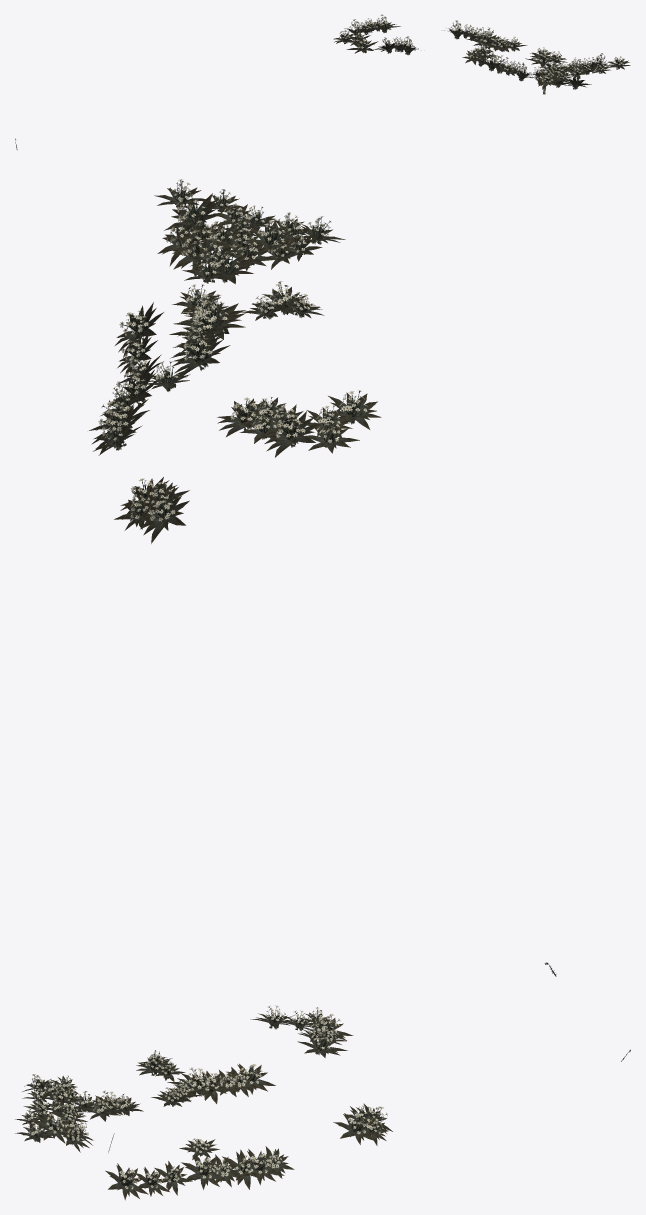
The model's file is grass20.fbx.
3 views of the same model, one above another, from view 1: azimuth 30°, elevation 25°; view 2: azimuth 150°, elevation 25°; view 3: azimuth 270°, elevation 25° (orthographic). The views are drawn at different scales.
Visible parts, largest first — view 1: m111213_1:2, m111213_1:1; view 2: m111213_1:2, m111213_1:1; view 3: m111213_1:1, m111213_1:2.
Boxes of the visible parts, x1,y1,x2,y2 form: m111213_1:2: [462, 36, 630, 94]; m111213_1:1: [333, 14, 535, 81]; m111213_1:2: [115, 179, 345, 393]; m111213_1:1: [89, 294, 381, 543]; m111213_1:1: [183, 1005, 392, 1189]; m111213_1:2: [15, 1050, 201, 1200].
Size of the model in its own units: 157581 by 56612 by 146264.
Materials: 3 (3 with a texture image).
